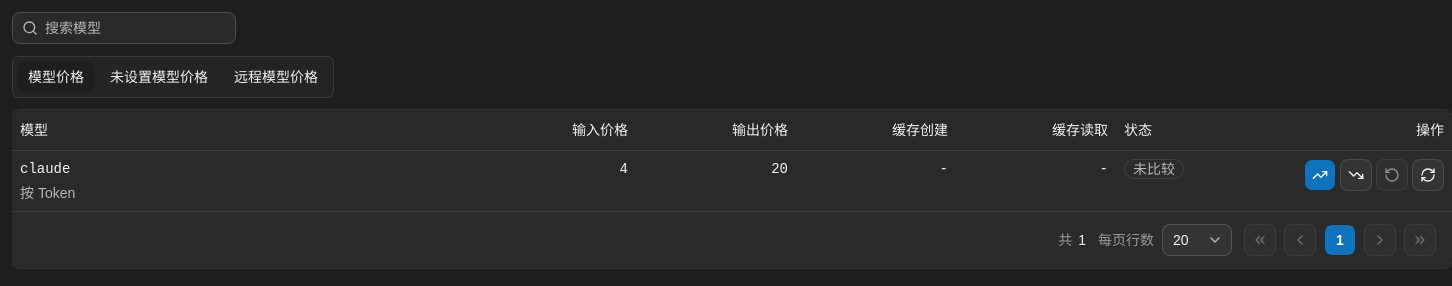
Test case: 模型价格行操作 › 同步远程价格前保存当前价格作为还原基线
This screenshot has width=1452, height=286.
Click the button named "同步 claude 远程模型价格". click: (1428, 174)
box: [1412, 158, 1444, 190]
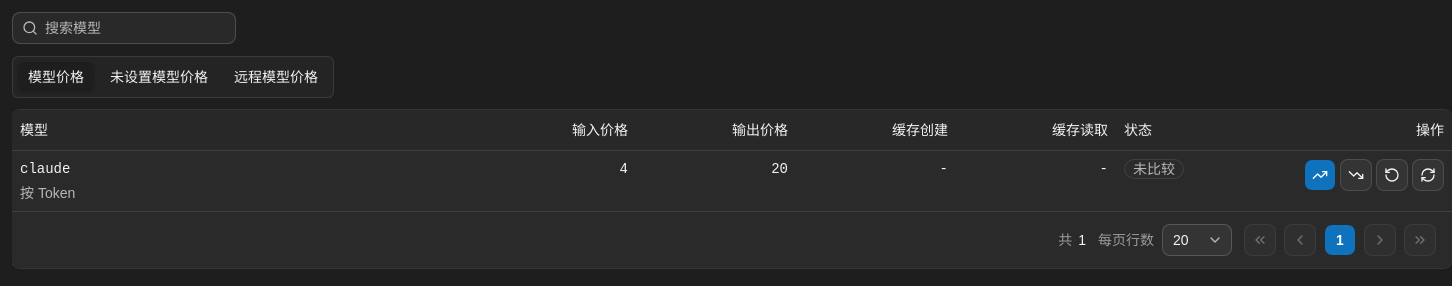
Expected: the button named "还原 claude 价格" is enabled, [1376, 158, 1408, 190]
